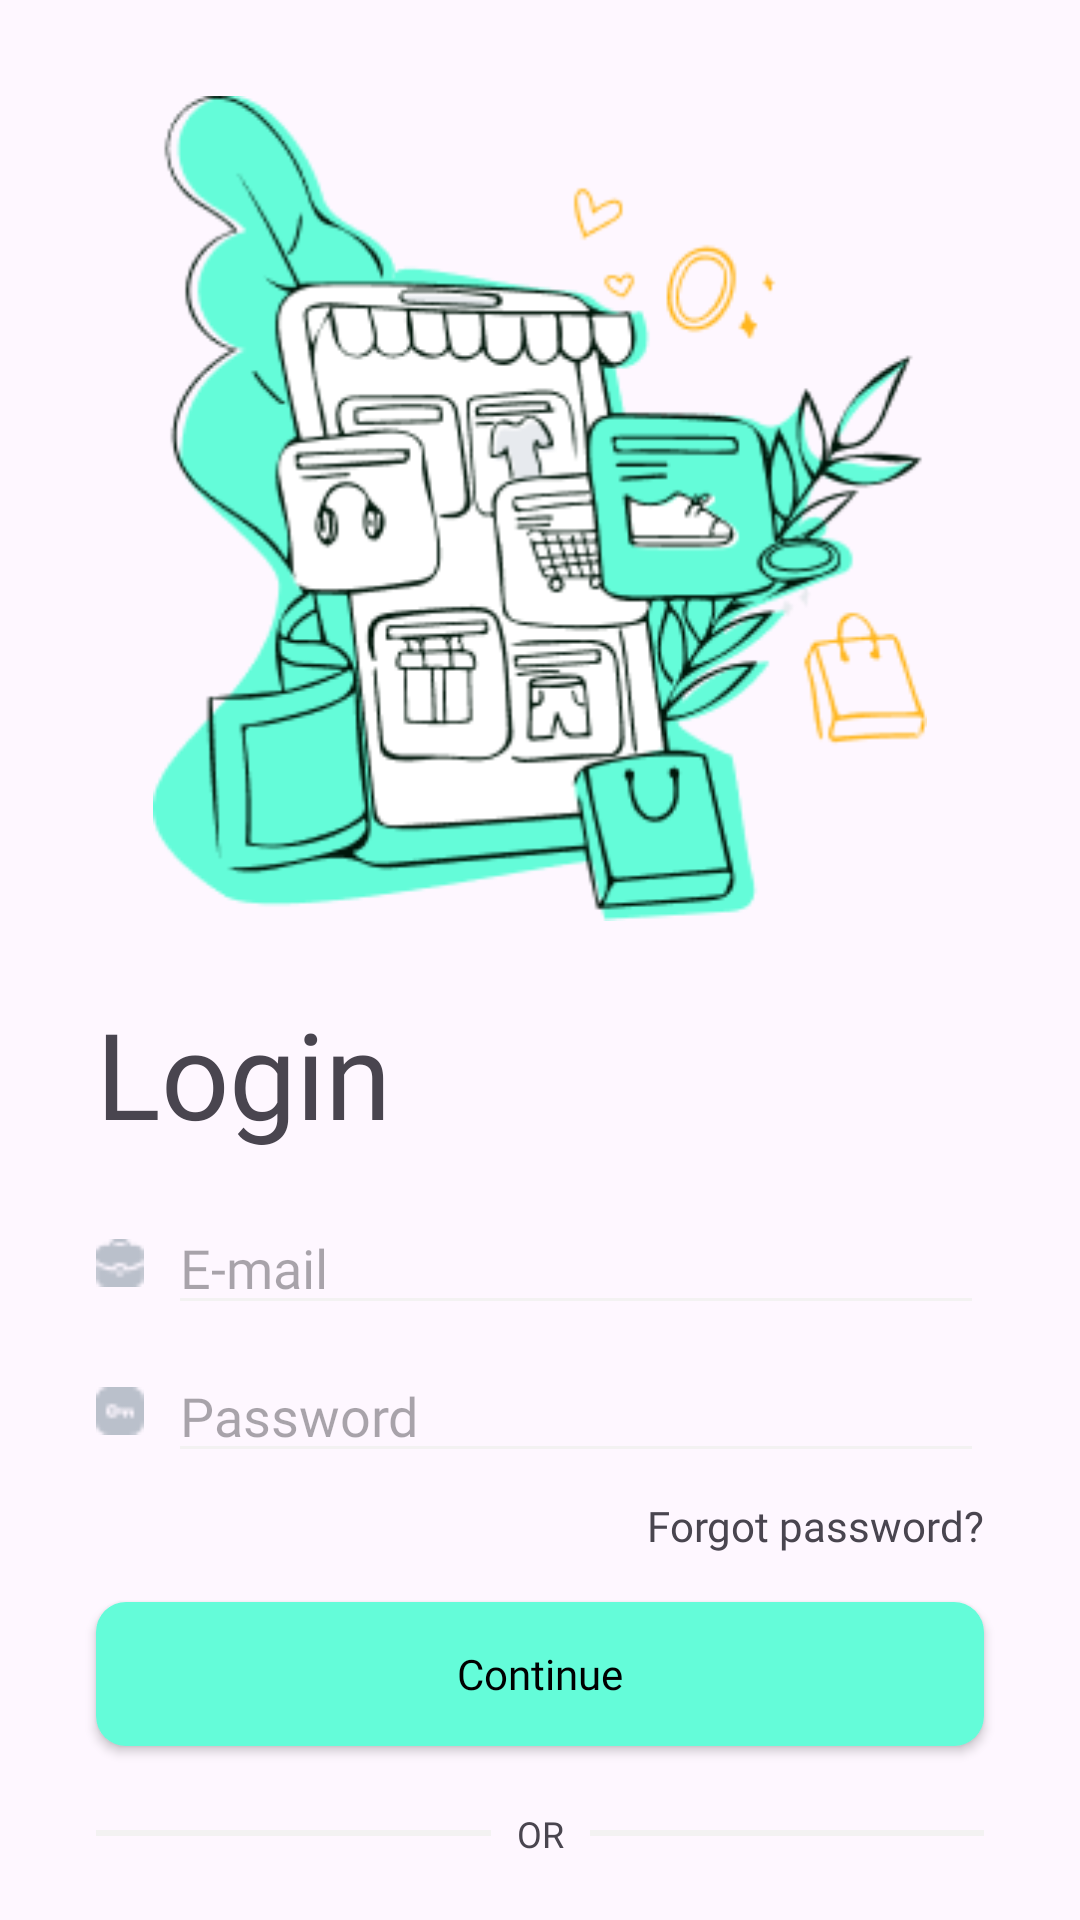

Named icons in this screenshot (1080 × 1920) and their centers, (x,y):
work: (120,1263)
